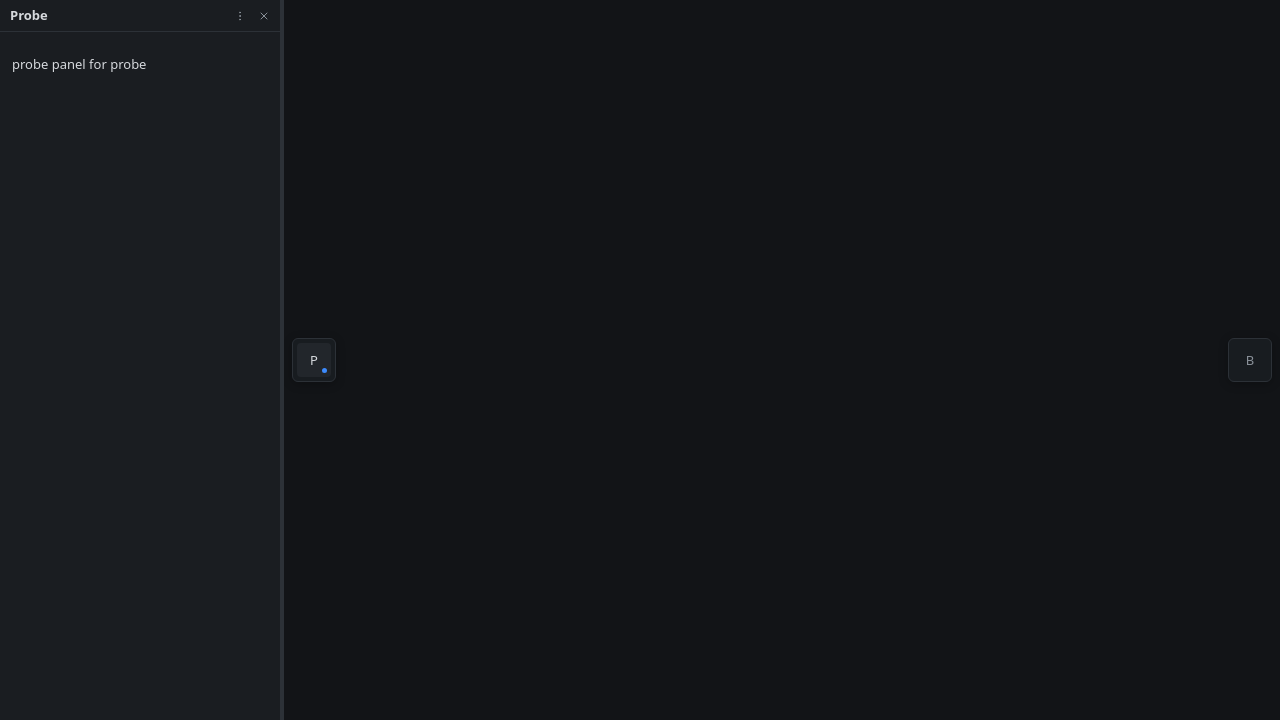
Test case: Tool Registry extensibility › a crashing tool panel is contained by its error boundary; the rest keeps working
What coordinates should you click on to do the following:
click the button with test id "rail-btn-broken"
I would click on:
 (1250, 360)
Its box is [1233, 343, 1267, 377].
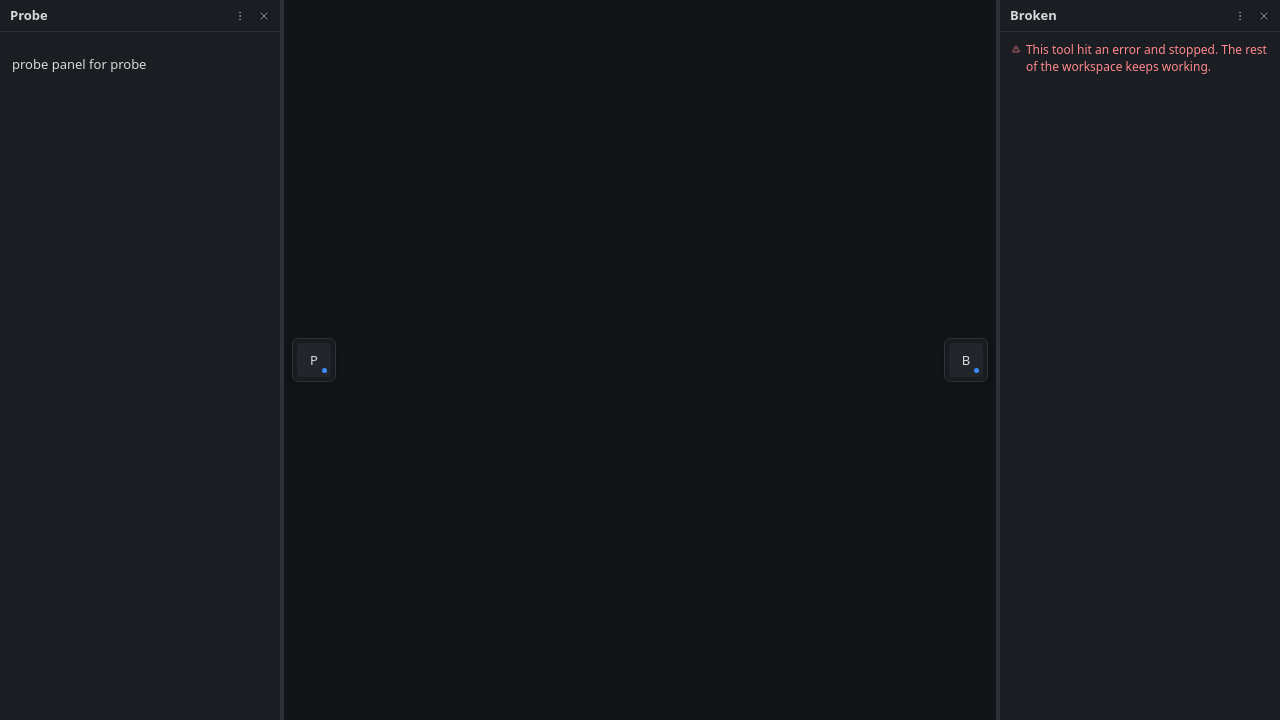
Result: the message "This tool hit an error and stopped. The rest of the workspace keeps working." is shown at [1012, 42, 1268, 76]
